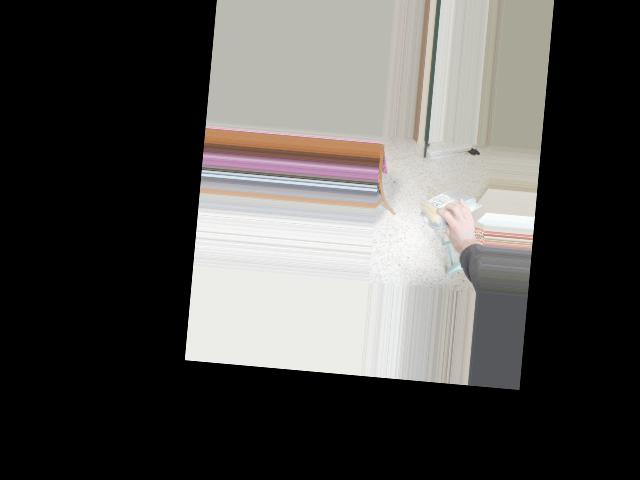cheese: (413, 190, 478, 224)
